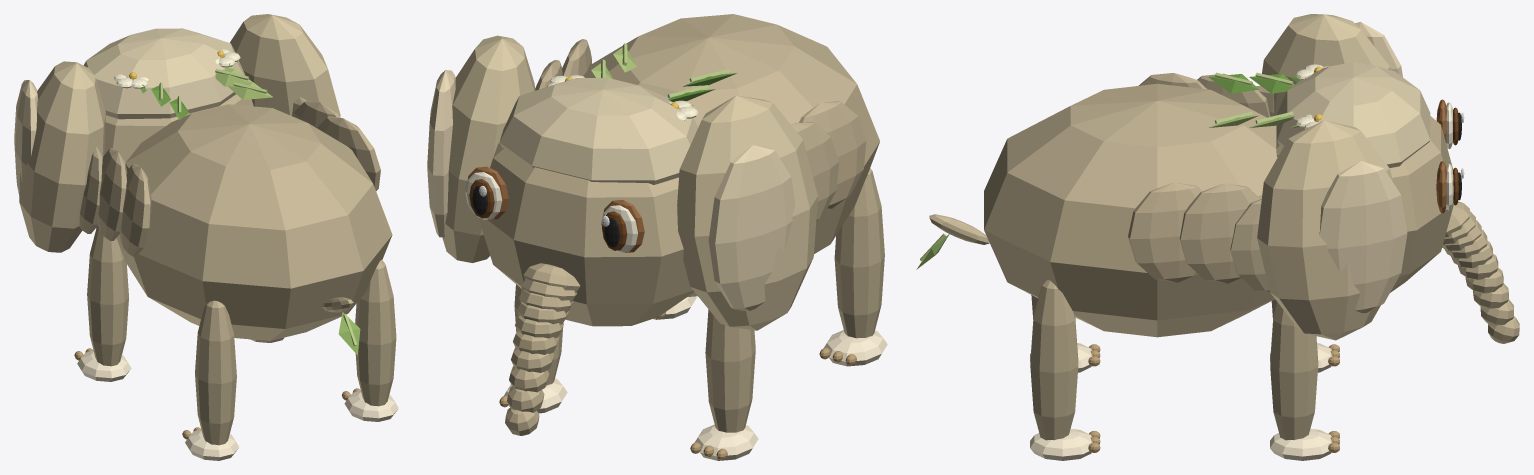
File: RockElephant_A_S1.obj
The picture shows the model from 3 angles, left to right: view 1: azimuth 30°, elevation 25°; view 2: azimuth 150°, elevation 25°; view 3: azimuth 270°, elevation 25°; orthographic projection. The views are drawn at different scales.
Parts seen in each view (by area): view 1: Body, LeftEar, Forehead, RightEar, LeftBackLeg, LeftFrontLeg, RightBackLeg, StonePlate_4, StonePlate_2, Head, LeftEarInner, StonePlate_5 (+7 smaller); view 2: Head, Body, Forehead, LeftEar, LeftEarInner, RightEar, LeftBackLeg, LeftFrontLeg, RightEarInner, StonePlate_4, StonePlate_2, LeftFrontPaw (+18 smaller); view 3: Body, RightEar, Forehead, RightEarInner, RightBackLeg, Head, LeftEar, RightFrontLeg, StonePlate_3, StonePlate_5, StonePlate_1, RightFrontPaw (+5 smaller).
Part boxes in pixels (left/top/right/bottom): Body: left=116, top=104, right=392, bottom=340; LeftEar: left=19, top=61, right=105, bottom=252; Forehead: left=83, top=28, right=245, bottom=119; RightEar: left=230, top=14, right=340, bottom=116; LeftBackLeg: left=195, top=300, right=236, bottom=445; LeftFrontLeg: left=87, top=226, right=128, bottom=366; RightBackLeg: left=355, top=260, right=396, bottom=406; StonePlate_4: left=119, top=164, right=151, bottom=256; StonePlate_2: left=98, top=148, right=127, bottom=240; Head: left=104, top=94, right=253, bottom=162; LeftEarInner: left=14, top=80, right=37, bottom=195; StonePlate_5: left=317, top=116, right=380, bottom=190; Head: left=478, top=143, right=693, bottom=326; Body: left=583, top=14, right=879, bottom=296; Forehead: left=499, top=78, right=698, bottom=184; LeftEar: left=677, top=95, right=817, bottom=330; LeftEarInner: left=708, top=145, right=795, bottom=310; RightEar: left=442, top=35, right=535, bottom=262; LeftBackLeg: left=834, top=168, right=884, bottom=338; LeftFrontLeg: left=705, top=309, right=755, bottom=432; RightEarInner: left=427, top=70, right=455, bottom=237; StonePlate_4: left=799, top=101, right=866, bottom=208; StonePlate_2: left=791, top=122, right=839, bottom=220; LeftFrontPaw: left=695, top=424, right=758, bottom=460; Body: left=984, top=83, right=1277, bottom=337; RightEar: left=1257, top=120, right=1393, bottom=340; Forehead: left=1277, top=62, right=1430, bottom=167; RightEarInner: left=1319, top=161, right=1407, bottom=313; RightBackLeg: left=1030, top=279, right=1078, bottom=440; Head: left=1276, top=116, right=1453, bottom=292; LeftEar: left=1262, top=14, right=1390, bottom=115; RightFrontLeg: left=1270, top=302, right=1318, bottom=440; StonePlate_3: left=1179, top=183, right=1260, bottom=283; StonePlate_5: left=1128, top=182, right=1202, bottom=282; StonePlate_1: left=1230, top=199, right=1270, bottom=292; RightFrontPaw: left=1270, top=428, right=1332, bottom=460.
Bounding box in the file's own units: 9.07 × 8.98 × 14.21.
